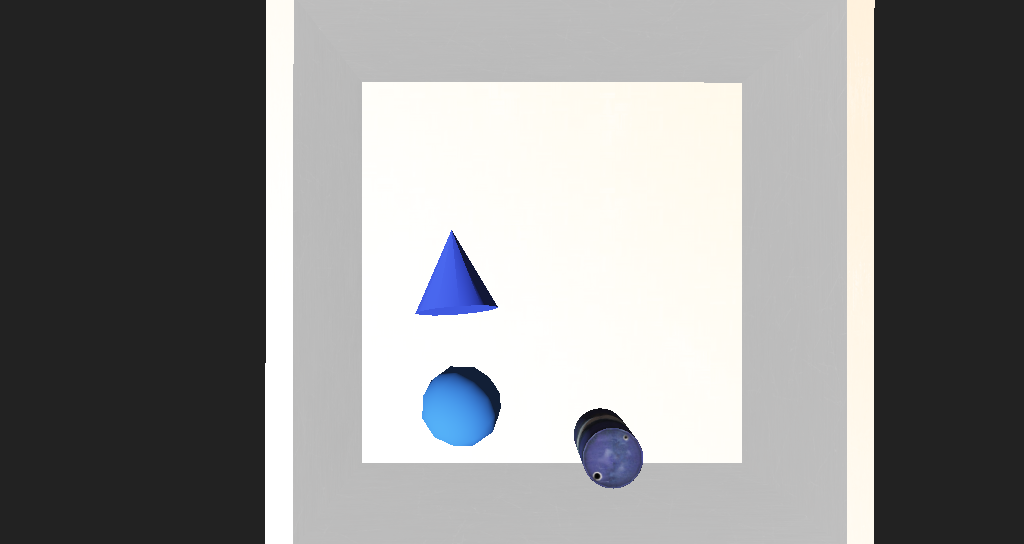cone: (529, 346, 576, 389)
cylinder: (384, 239, 465, 296)
sphere: (397, 322, 465, 365)
